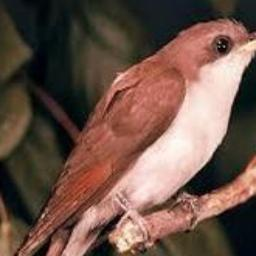Cuckoo: (9, 18, 256, 256)
